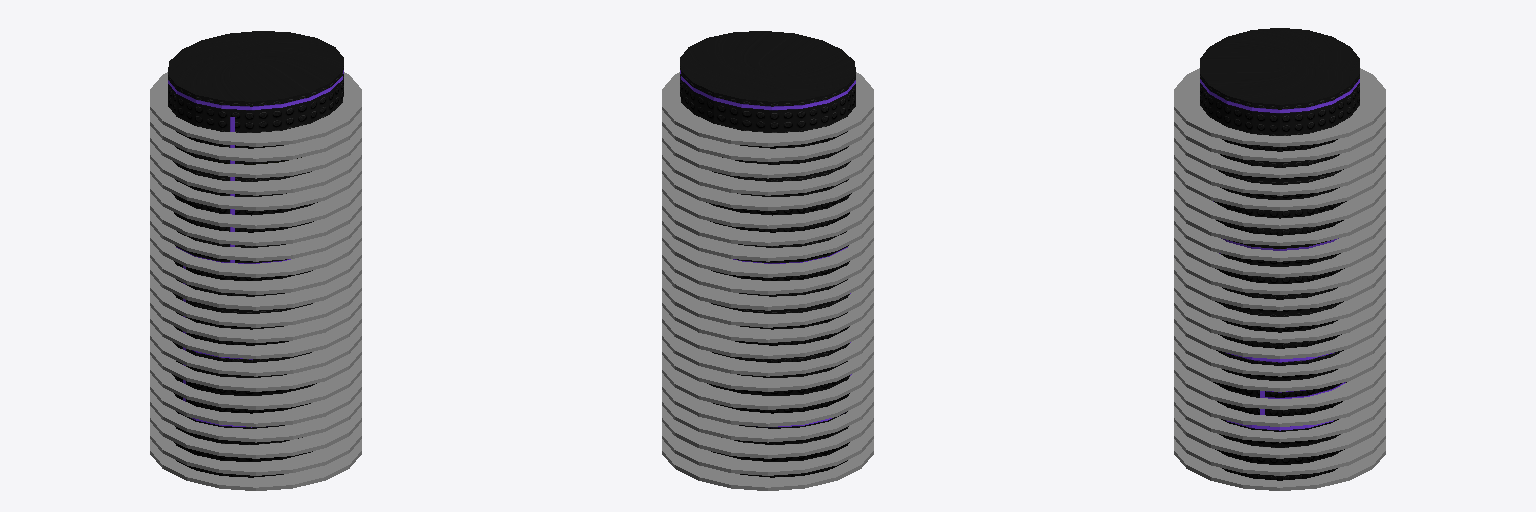
3 renders of one model, left to right at view 1: azimuth 30°, elevation 25°; view 2: azimuth 150°, elevation 25°; view 3: azimuth 270°, elevation 25°, orthographic.
Visible parts, largest first — view 1: Cylinder022, Cylinder021, Cylinder005, Cylinder017, Cylinder016, Cylinder009, Cylinder014, Cylinder004, Cylinder002, Cylinder007, Cylinder019, Cylinder003 (+12 smaller); view 2: Cylinder022, Cylinder021, Cylinder005, Cylinder017, Cylinder016, Cylinder009, Cylinder014, Cylinder004, Cylinder002, Cylinder007, Cylinder019, Cylinder003 (+12 smaller); view 3: Cylinder022, Cylinder021, Cylinder017, Cylinder005, Cylinder009, Cylinder016, Cylinder014, Cylinder004, Cylinder007, Cylinder002, Cylinder019, Cylinder015 (+11 smaller).
Part boxes in pixels (bbox=[...]): Cylinder022: bbox=[168, 31, 343, 477]; Cylinder021: bbox=[150, 72, 361, 146]; Cylinder005: bbox=[150, 355, 361, 409]; Cylinder017: bbox=[150, 174, 361, 228]; Cylinder016: bbox=[150, 192, 361, 245]; Cylinder009: bbox=[150, 274, 361, 327]; Cylinder014: bbox=[150, 241, 361, 294]; Cylinder004: bbox=[150, 373, 361, 426]; Cylinder002: bbox=[150, 422, 361, 475]; Cylinder007: bbox=[150, 323, 361, 376]; Cylinder019: bbox=[150, 142, 361, 195]; Cylinder003: bbox=[150, 406, 361, 458]; Cylinder022: bbox=[680, 31, 855, 477]; Cylinder021: bbox=[662, 72, 873, 146]; Cylinder005: bbox=[662, 355, 873, 409]; Cylinder017: bbox=[662, 174, 873, 228]; Cylinder016: bbox=[662, 192, 873, 245]; Cylinder009: bbox=[662, 274, 873, 327]; Cylinder014: bbox=[662, 241, 873, 294]; Cylinder004: bbox=[662, 373, 873, 426]; Cylinder002: bbox=[662, 422, 873, 475]; Cylinder007: bbox=[662, 323, 873, 376]; Cylinder019: bbox=[662, 142, 873, 195]; Cylinder003: bbox=[662, 406, 873, 458]; Cylinder022: bbox=[1200, 28, 1359, 480]; Cylinder021: bbox=[1174, 68, 1385, 146]; Cylinder017: bbox=[1174, 174, 1385, 228]; Cylinder005: bbox=[1174, 355, 1385, 409]; Cylinder009: bbox=[1174, 274, 1385, 327]; Cylinder016: bbox=[1174, 192, 1385, 245]; Cylinder014: bbox=[1174, 241, 1385, 294]; Cylinder004: bbox=[1174, 373, 1385, 426]; Cylinder007: bbox=[1174, 323, 1385, 376]; Cylinder002: bbox=[1174, 422, 1385, 475]; Cylinder019: bbox=[1174, 142, 1385, 195]; Cylinder015: bbox=[1174, 225, 1385, 277].
Bounding box in the file's own units: 0.5111 × 0.991 × 0.5033.
Materials: 2 (1 with a texture image).